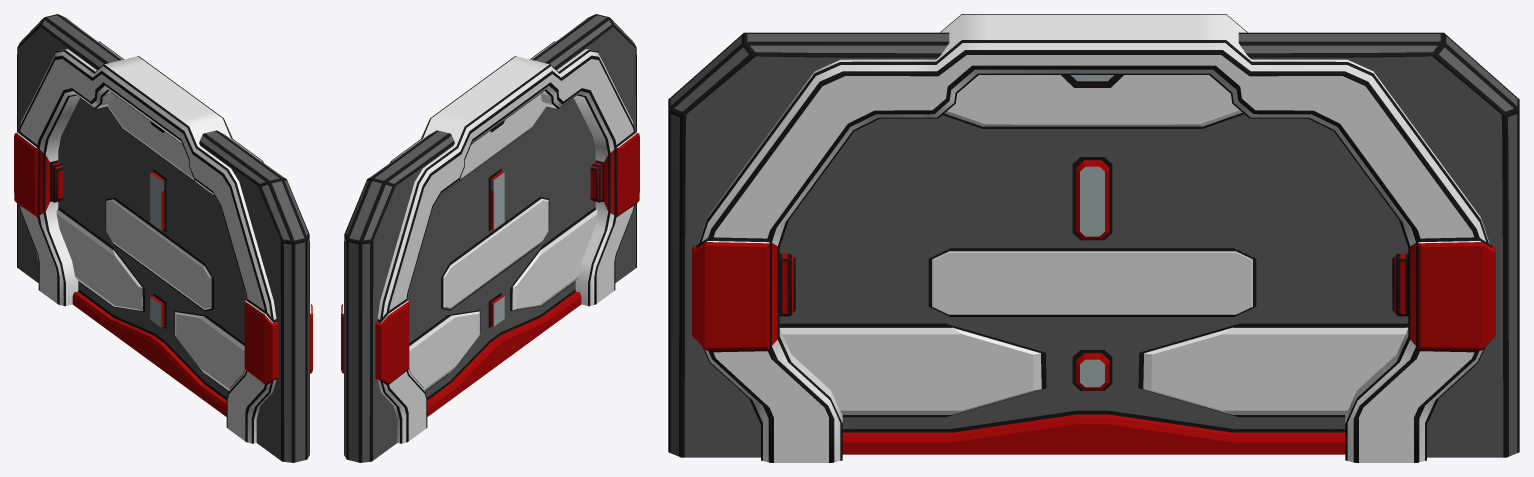
File: Level3Door.fbx
3 renders of one model, left to right at view 1: azimuth 30°, elevation 25°; view 2: azimuth 150°, elevation 25°; view 3: azimuth 270°, elevation 25°, orthographic. The views are drawn at different scales.
Visible parts, largest first — view 1: Door Frame, Door Right, Door Left; view 2: Door Frame, Door Left, Door Right; view 3: Door Frame, Door Right, Door Left.
Boxes of the visible parts, x1,y1,x2,y2 form: Door Frame: (14,14,312,462); Door Right: (56,94,159,363); Door Left: (154,126,246,416); Door Frame: (341,14,639,462); Door Left: (495,94,597,362); Door Right: (407,125,500,416); Door Frame: (668,14,1519,462); Door Right: (1092,75,1408,454); Door Left: (779,75,1092,454).
Bounding box in the file's own units: 7.37 × 13.55 × 1.37.
